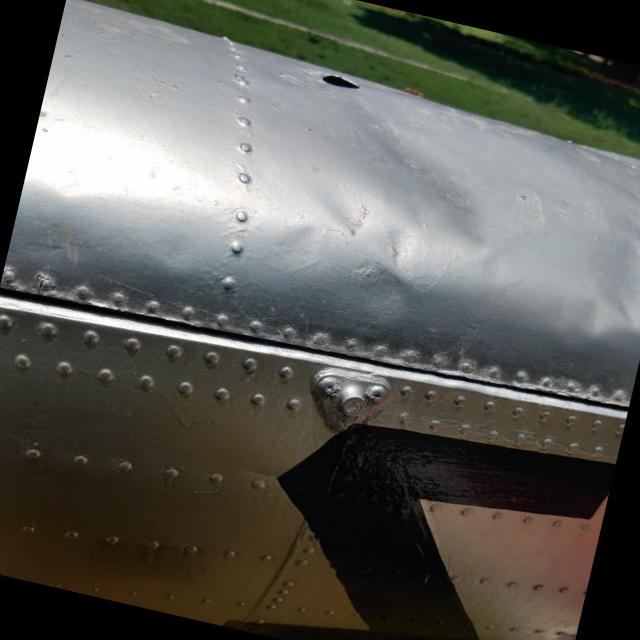Dent: (336, 91, 540, 281), (554, 272, 640, 375), (349, 260, 418, 330)
